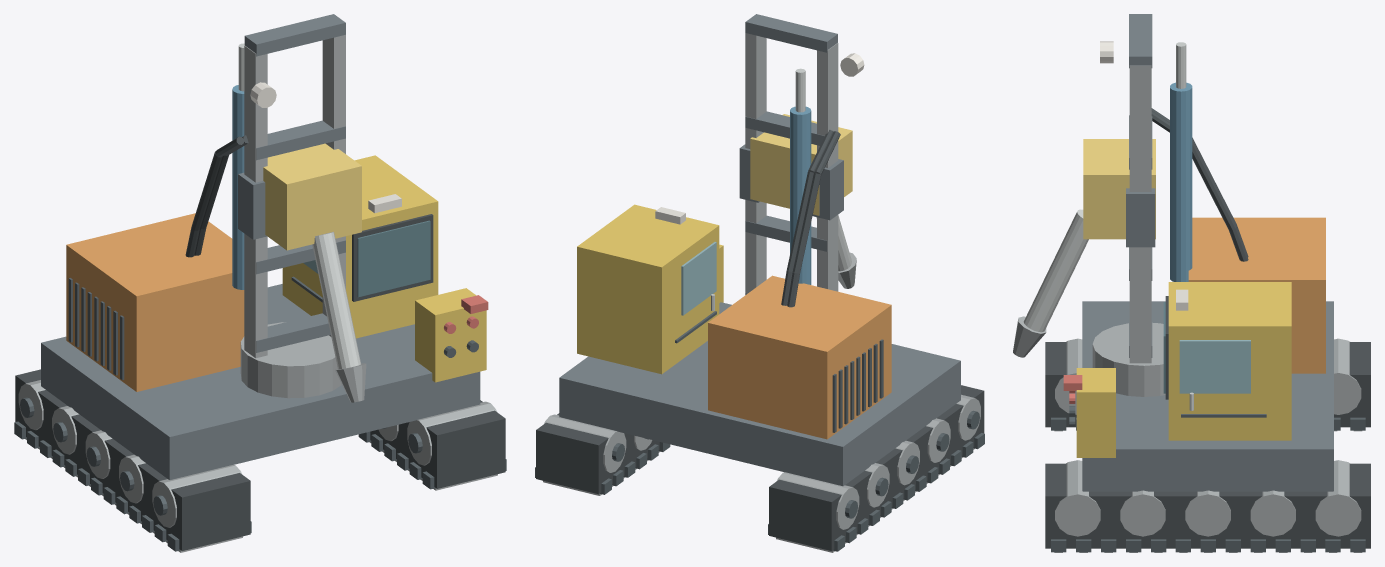
File: drill-rig.glb
3 views of the same model, side by side, from view 1: azimuth 30°, elevation 25°; view 2: azimuth 150°, elevation 25°; view 3: azimuth 270°, elevation 25° (orthographic). The views are drawn at different scales.
Visible parts, largest first — view 1: Low articulated chassis, Diesel power pack enclosure, Crawler track rubber belt (×2), Rotary percussive drill head, Operator cab steel shell, Reinforced drill feed rail (×2), Mast tie plate (×4), Track road wheel (×6), Control station, Rotary pedestal bearing, Tinted laminated windshield, Hydraulic drill spindle (+5 smaller); view 2: Low articulated chassis, Diesel power pack enclosure, Operator cab steel shell, Crawler track rubber belt (×2), Reinforced drill feed rail (×2), Track road wheel (×6), Mast tie plate (×3), Rotary percussive drill head, Hydraulic feed actuator, Mast slider guide (×2), Cab side window, Hydraulic pressure hose 2 (×2); view 3: Low articulated chassis, Operator cab steel shell, Crawler track rubber belt (×2), Track road wheel (×7), Diesel power pack enclosure, Reinforced drill feed rail, Rotary percussive drill head, Hydraulic feed actuator, Cab side window, Control station, Rotary pedestal bearing, Hydraulic drill spindle (+5 smaller).
Boxes of the visible parts, bbox=[...] form: Low articulated chassis: bbox=[41, 284, 480, 479]; Diesel power pack enclosure: bbox=[66, 213, 244, 391]; Crawler track rubber belt (×2): bbox=[15, 369, 505, 550]; Rotary percussive drill head: bbox=[263, 143, 361, 250]; Operator cab steel shell: bbox=[282, 155, 438, 338]; Reinforced drill feed rail (×2): bbox=[244, 34, 345, 358]; Mast tie plate (×4): bbox=[244, 14, 345, 352]; Track road wheel (×6): bbox=[18, 380, 497, 527]; Control station: bbox=[415, 288, 486, 382]; Rotary pedestal bearing: bbox=[240, 322, 341, 398]; Tinted laminated windshield: bbox=[357, 220, 430, 297]; Hydraulic drill spindle: bbox=[312, 231, 360, 368]; Low articulated chassis: bbox=[559, 302, 960, 486]; Diesel power pack enclosure: bbox=[708, 275, 891, 439]; Operator cab steel shell: bbox=[577, 204, 719, 374]; Crawler track rubber belt (×2): bbox=[536, 385, 984, 550]; Reinforced drill feed rail (×2): bbox=[745, 33, 838, 293]; Track road wheel (×6): bbox=[544, 394, 980, 529]; Mast tie plate (×3): bbox=[745, 14, 837, 251]; Rotary percussive drill head: bbox=[750, 114, 852, 215]; Hydraulic feed actuator: bbox=[790, 106, 811, 284]; Mast slider guide (×2): bbox=[739, 144, 843, 220]; Cab side window: bbox=[681, 242, 716, 315]; Hydraulic pressure hose 2 (×2): bbox=[787, 171, 821, 273]; Low articulated chassis: bbox=[1082, 301, 1333, 491]; Operator cab steel shell: bbox=[1168, 282, 1291, 440]; Crawler track rubber belt (×2): bbox=[1045, 342, 1370, 548]; Track road wheel (×7): bbox=[1055, 338, 1361, 536]; Diesel power pack enclosure: bbox=[1188, 217, 1325, 373]; Reinforced drill feed rail: bbox=[1129, 65, 1151, 363]; Rotary percussive drill head: bbox=[1083, 139, 1155, 239]; Hydraulic feed actuator: bbox=[1170, 82, 1192, 281]; Cab side window: bbox=[1179, 340, 1250, 393]; Control station: bbox=[1076, 368, 1115, 457]; Rotary pedestal bearing: bbox=[1092, 322, 1165, 396]; Hydraulic drill spindle: bbox=[1023, 209, 1088, 332].
Bounding box in the file's own units: 3.07 × 3.97 × 2.91.
